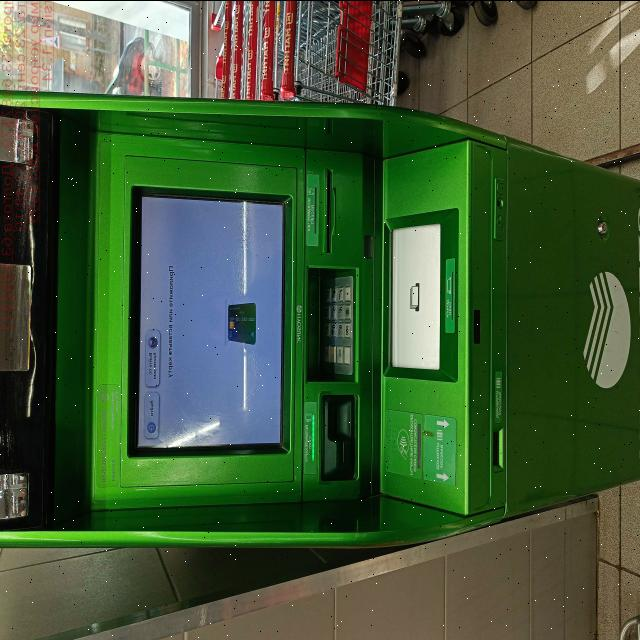bank: (0, 90, 640, 544)
